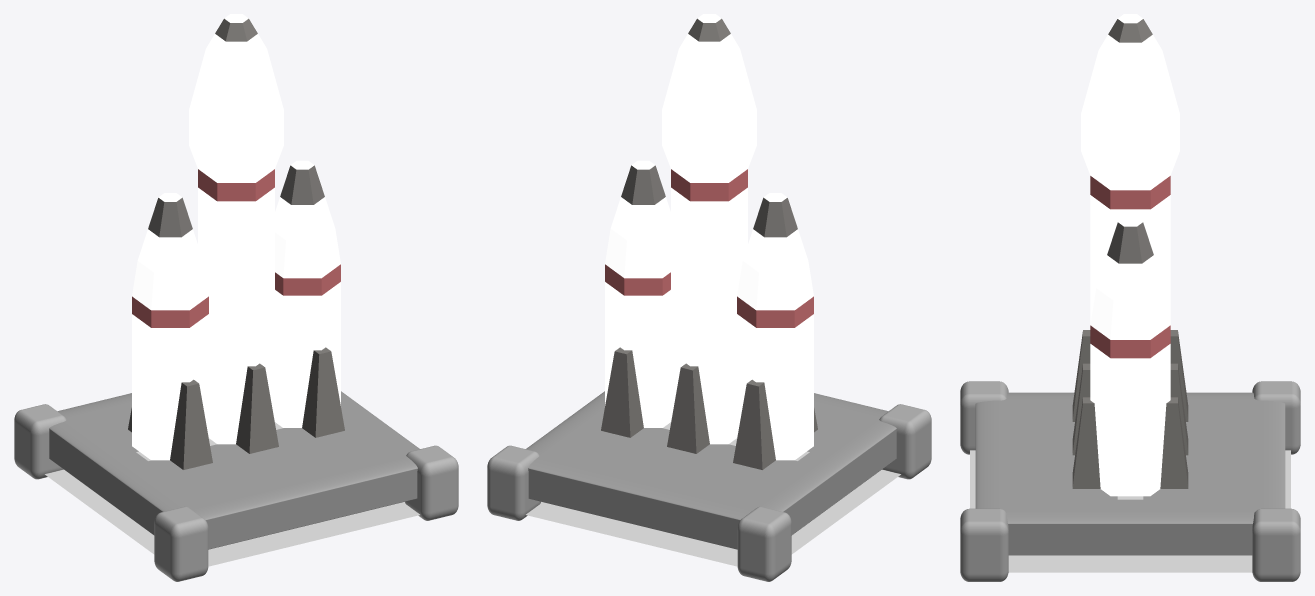
The model's file is portfolio-rocket.glb.
3 views of the same model, side by side, from view 1: azimuth 30°, elevation 25°; view 2: azimuth 150°, elevation 25°; view 3: azimuth 270°, elevation 25° (orthographic). The views are drawn at different scales.
Visible parts, largest first — view 1: Cube, Circle.001, Circle, Cube.001, Plane.003, Plane.001, Plane; view 2: Cube, Circle.001, Circle, Cube.001, Plane.003, Plane.001, Plane; view 3: Cube, Circle, Circle.001, Cube.001, Plane.001, Plane.003, Plane.
Part boxes in pixels (x1,y1,x2,y2): Cube: [49, 391, 419, 549]; Circle.001: [132, 160, 340, 460]; Circle: [189, 14, 283, 444]; Cube.001: [14, 404, 458, 581]; Plane.003: [45, 469, 419, 566]; Plane.001: [128, 347, 344, 469]; Plane: [236, 363, 278, 453]; Cube: [526, 391, 896, 549]; Circle.001: [605, 160, 813, 460]; Circle: [662, 14, 756, 444]; Cube.001: [487, 404, 931, 581]; Plane.003: [526, 469, 900, 566]; Plane.001: [601, 347, 817, 469]; Plane: [667, 363, 709, 453]; Cube: [975, 392, 1285, 555]; Circle: [1081, 14, 1179, 323]; Circle.001: [1090, 217, 1170, 496]; Cube.001: [960, 381, 1300, 581]; Plane.001: [1072, 330, 1188, 488]; Plane.003: [970, 450, 1290, 572]; Plane: [1072, 363, 1188, 455].
Size of the model in its own units: 8.62 by 13.56 by 8.49.
